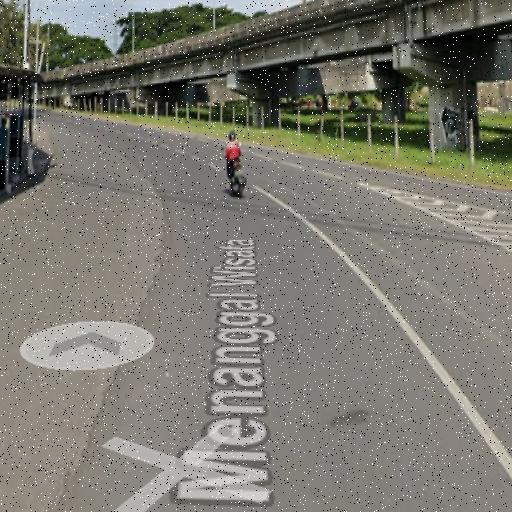Helmet: (229, 132, 236, 141)
Motor: (230, 159, 246, 198)
